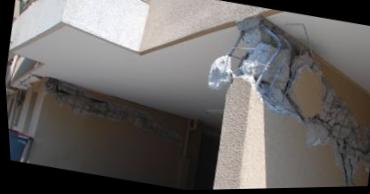spalling: (209, 18, 370, 187), (46, 78, 183, 142)
